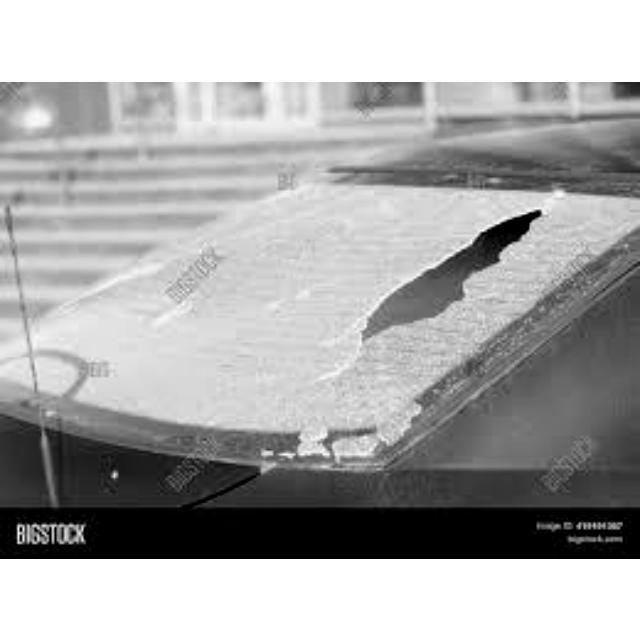Rear-windscreen-Damage: (30, 141, 610, 465)
